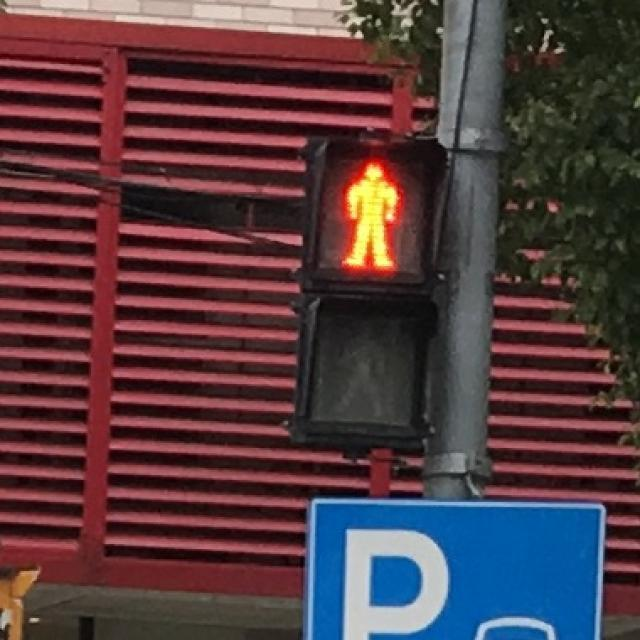red-crossing: (323, 148, 416, 278)
